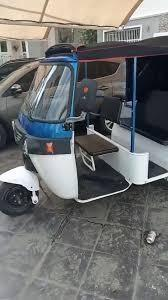keke: (7, 2, 168, 298)
